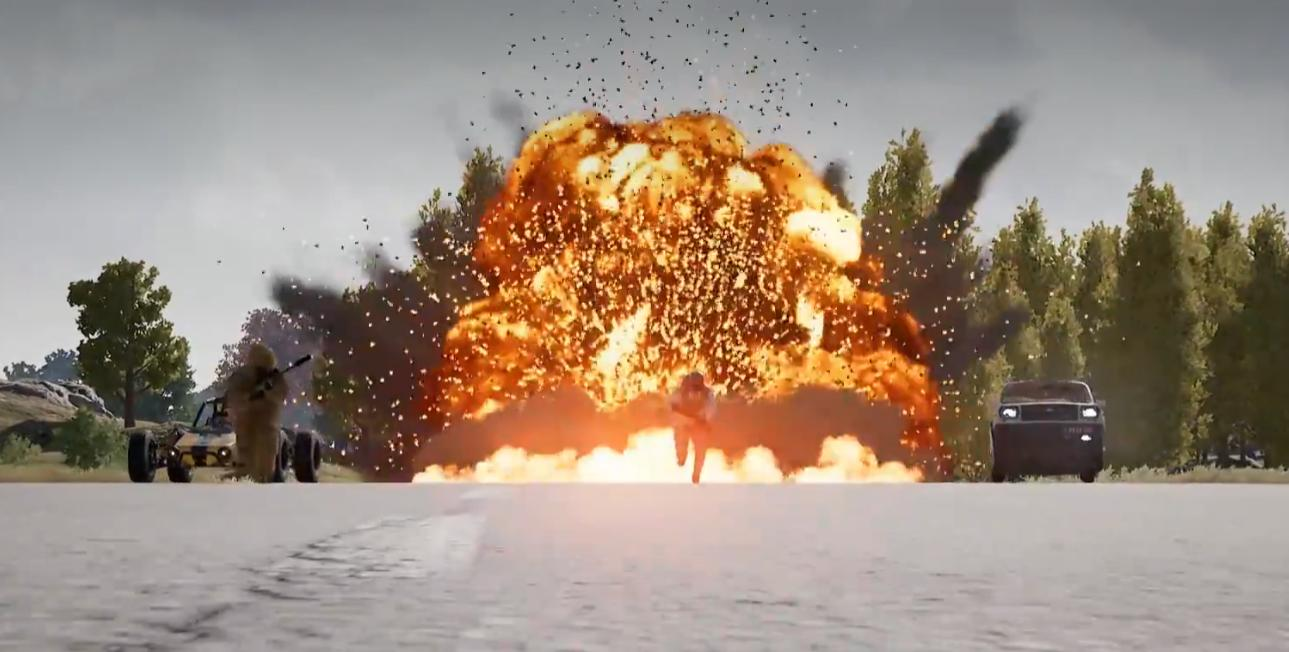fire: (385, 84, 959, 505)
